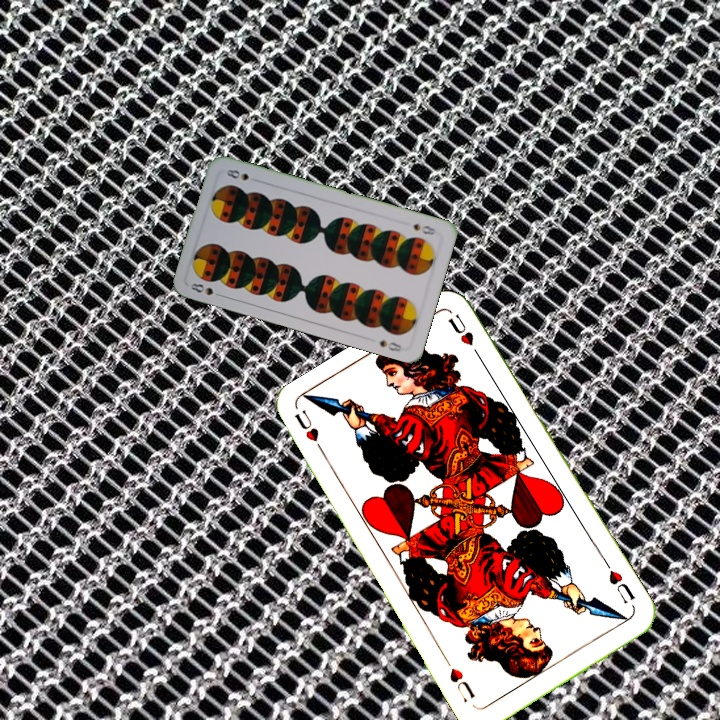HU: (290, 405, 330, 460), (601, 558, 638, 607)
S8: (186, 279, 226, 300), (409, 219, 440, 238)
